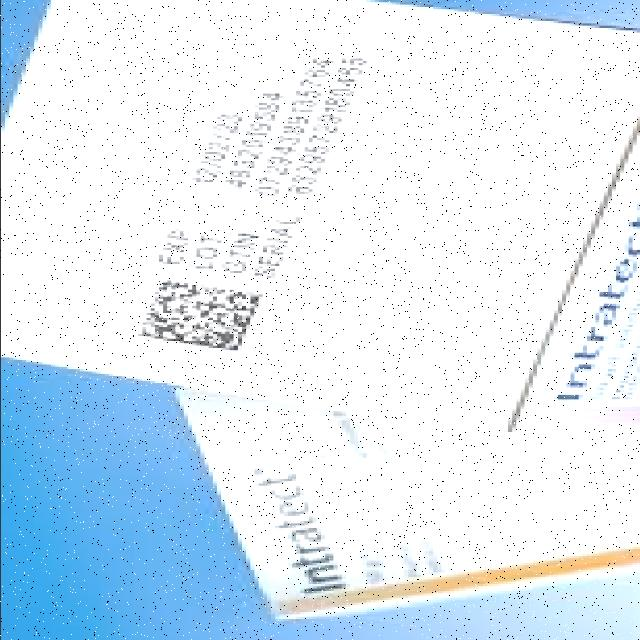datamatrix: (125, 278, 270, 357)
